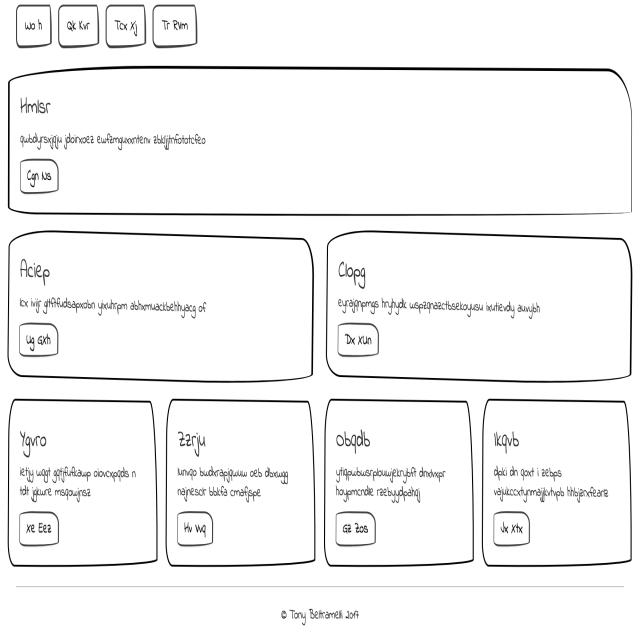Button: (16, 504, 64, 550), (334, 508, 382, 554), (14, 320, 61, 361), (176, 504, 217, 550), (17, 156, 62, 197), (335, 322, 383, 360), (490, 508, 532, 550)
Card: (4, 63, 637, 222), (323, 226, 636, 387), (6, 226, 316, 386), (323, 393, 478, 573), (5, 394, 160, 572), (482, 392, 636, 568), (166, 393, 318, 569)
Footer: (0, 579, 640, 640)
Heading 6: (330, 426, 382, 457), (172, 424, 218, 458), (333, 252, 370, 291), (19, 253, 55, 289), (16, 422, 52, 458), (16, 86, 52, 120), (488, 424, 526, 452)
Navigation Bar: (11, 0, 206, 54)
Paragraph: (13, 457, 146, 504), (487, 457, 618, 503), (332, 462, 451, 508), (331, 293, 546, 318), (17, 126, 212, 151), (13, 292, 208, 316), (174, 463, 293, 500)
